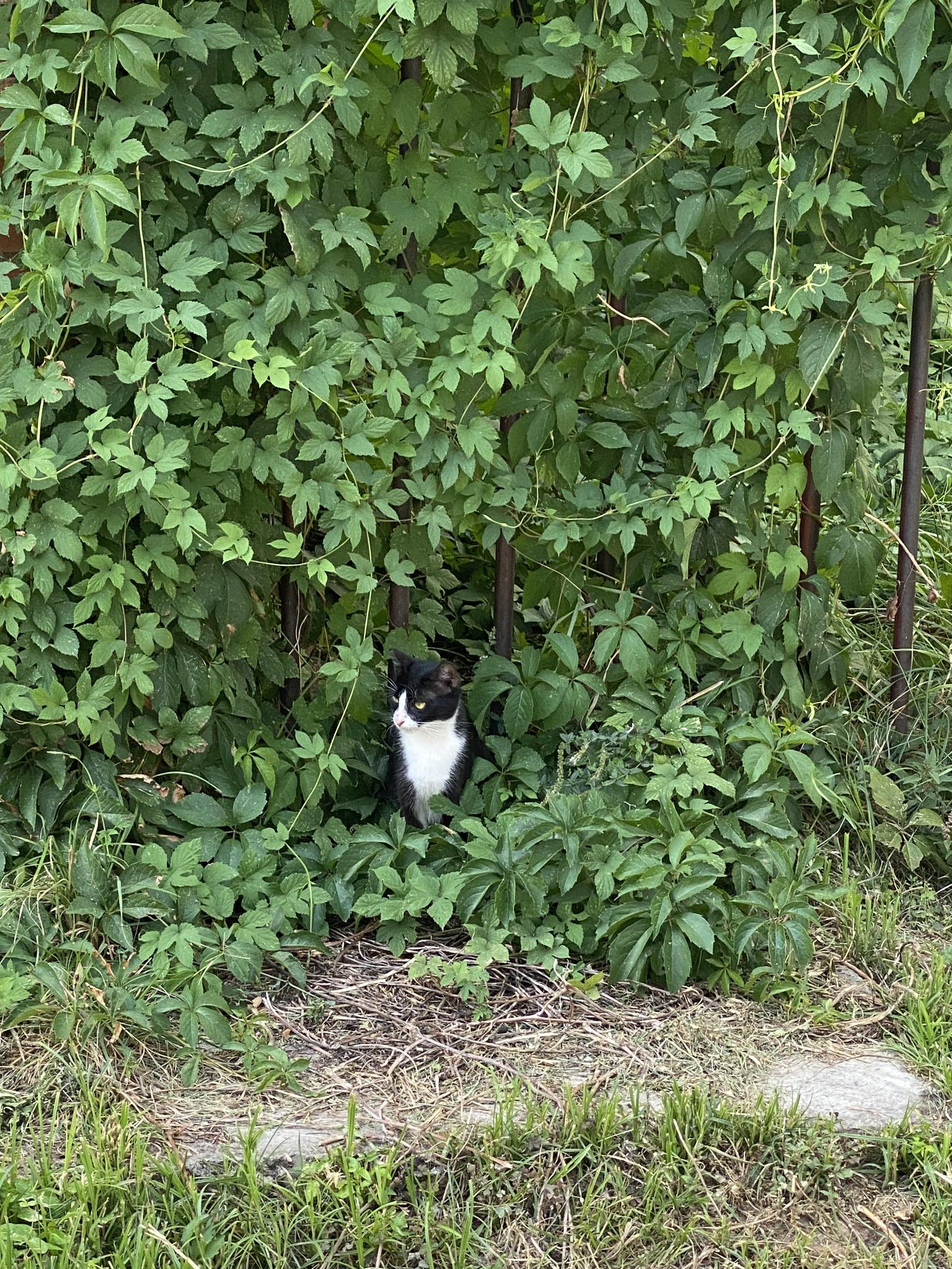macka: (382, 646, 505, 863)
